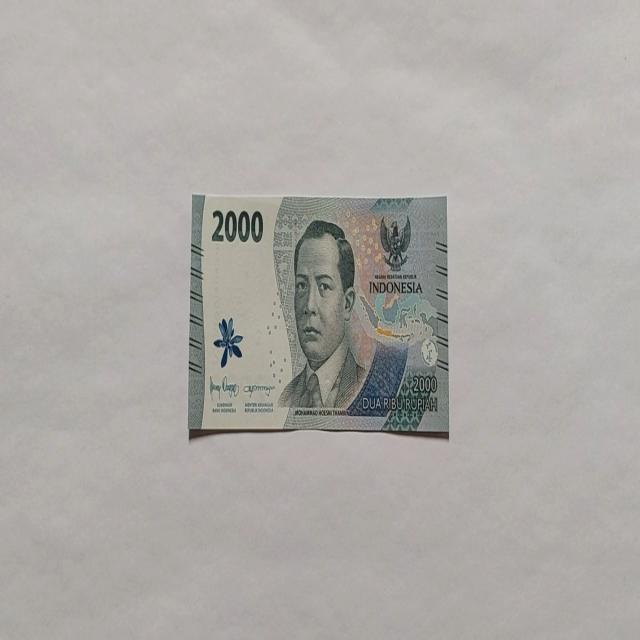dua ribu rupiah: (187, 191, 449, 438), (276, 218, 368, 412)
